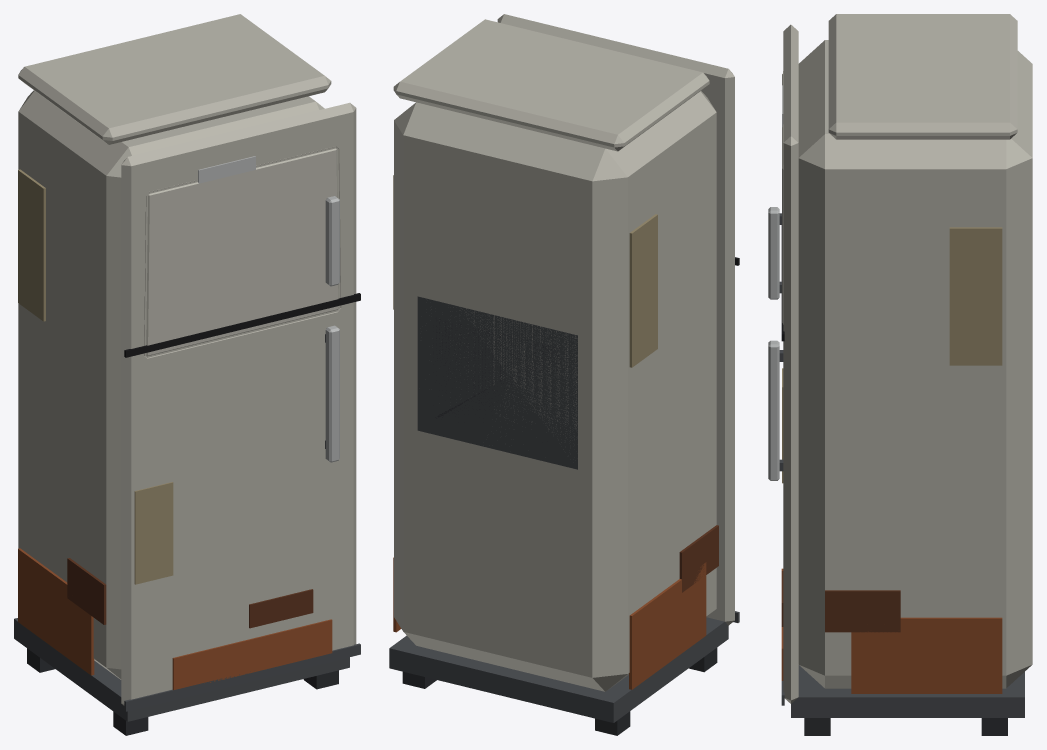
The model's file is furn_fridge.fbx.
The picture shows the model from 3 angles, left to right: view 1: azimuth 30°, elevation 25°; view 2: azimuth 150°, elevation 25°; view 3: azimuth 270°, elevation 25°; orthographic projection. The views are drawn at different scales.
Visible parts, largest first — view 1: Door, furn_fridge; view 2: furn_fridge, Door; view 3: furn_fridge, Door.
Part boxes in pixels (<box>): Door: <box>121,102,360,711</box>; furn_fridge: <box>14,14,349,735</box>; furn_fridge: <box>389,19,728,735</box>; Door: <box>497,14,739,625</box>; furn_fridge: <box>791,14,1032,735</box>; Door: <box>768,24,798,705</box>.
Bounding box in the file's own units: 0.745 × 1.79 × 0.7.
